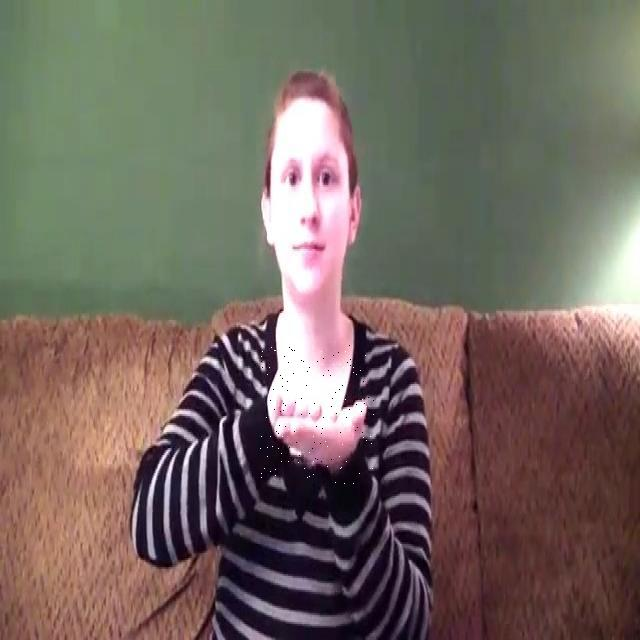chicken: (260, 344, 374, 484)
